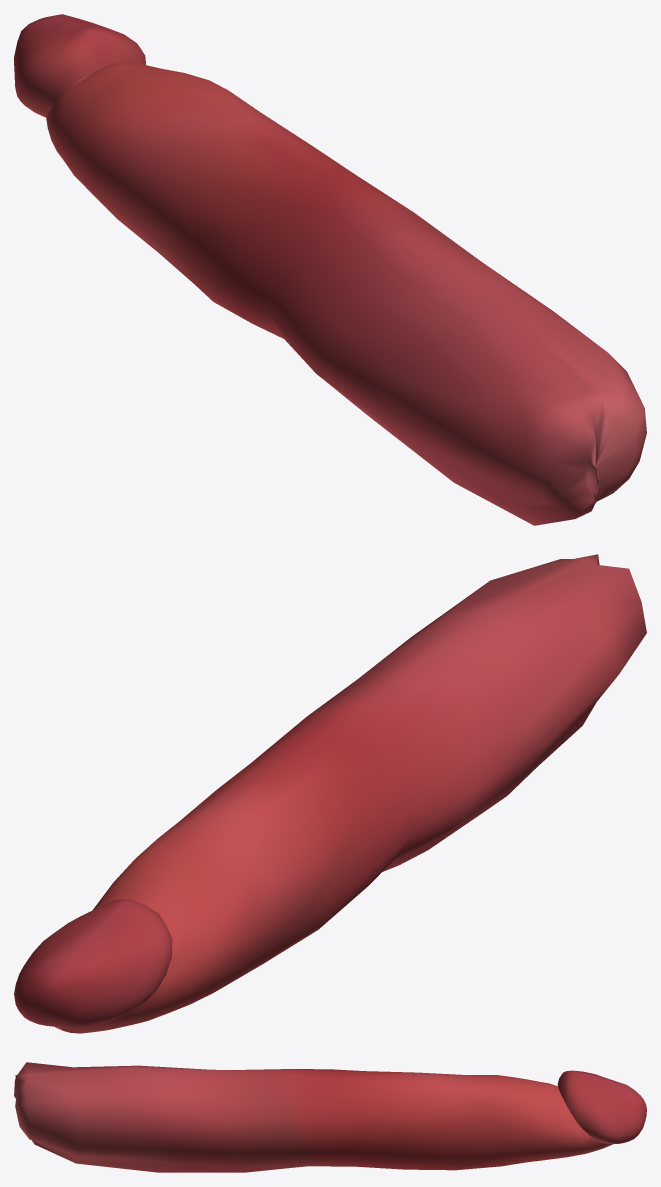
Rendered from dildak.fbx.
3 views of the same model, one above another, from view 1: azimuth 30°, elevation 25°; view 2: azimuth 150°, elevation 25°; view 3: azimuth 270°, elevation 25° (orthographic). The views are drawn at different scales.
Parts seen in each view (by area): view 1: Mesh0000; view 2: Mesh0000; view 3: Mesh0000.
Boxes of the visible parts, x1,y1,x2,y2 form: Mesh0000: (14,14,646,525); Mesh0000: (14,554,646,1033); Mesh0000: (14,1062,646,1172).
Bounding box in the file's own units: 169 × 179 × 971.
Materials: 1 (1 with a texture image).
